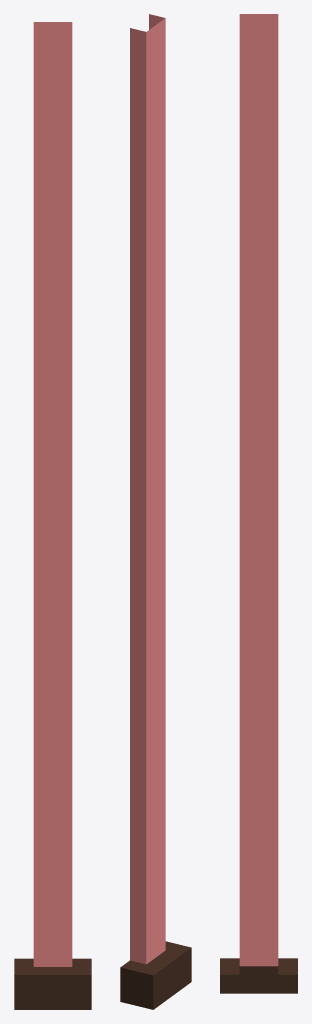
File: SM_Mur_Fin.fbx
3 views of the same model, side by side, from view 1: azimuth 90°, elevation 25°; view 2: azimuth 150°, elevation 25°; view 3: azimuth 270°, elevation 25° (orthographic). The views are drawn at different scales.
Visible parts, largest first — view 1: SM_Mur_Fin; view 2: SM_Mur_Fin; view 3: SM_Mur_Fin.
Part boxes in pixels (x1=…): SM_Mur_Fin: x1=14, y1=22, x2=91, y2=1009; SM_Mur_Fin: x1=120, y1=14, x2=191, y2=1009; SM_Mur_Fin: x1=220, y1=14, x2=297, y2=993.
Bounding box in the file's own units: 0.1 × 2.8 × 0.2.
